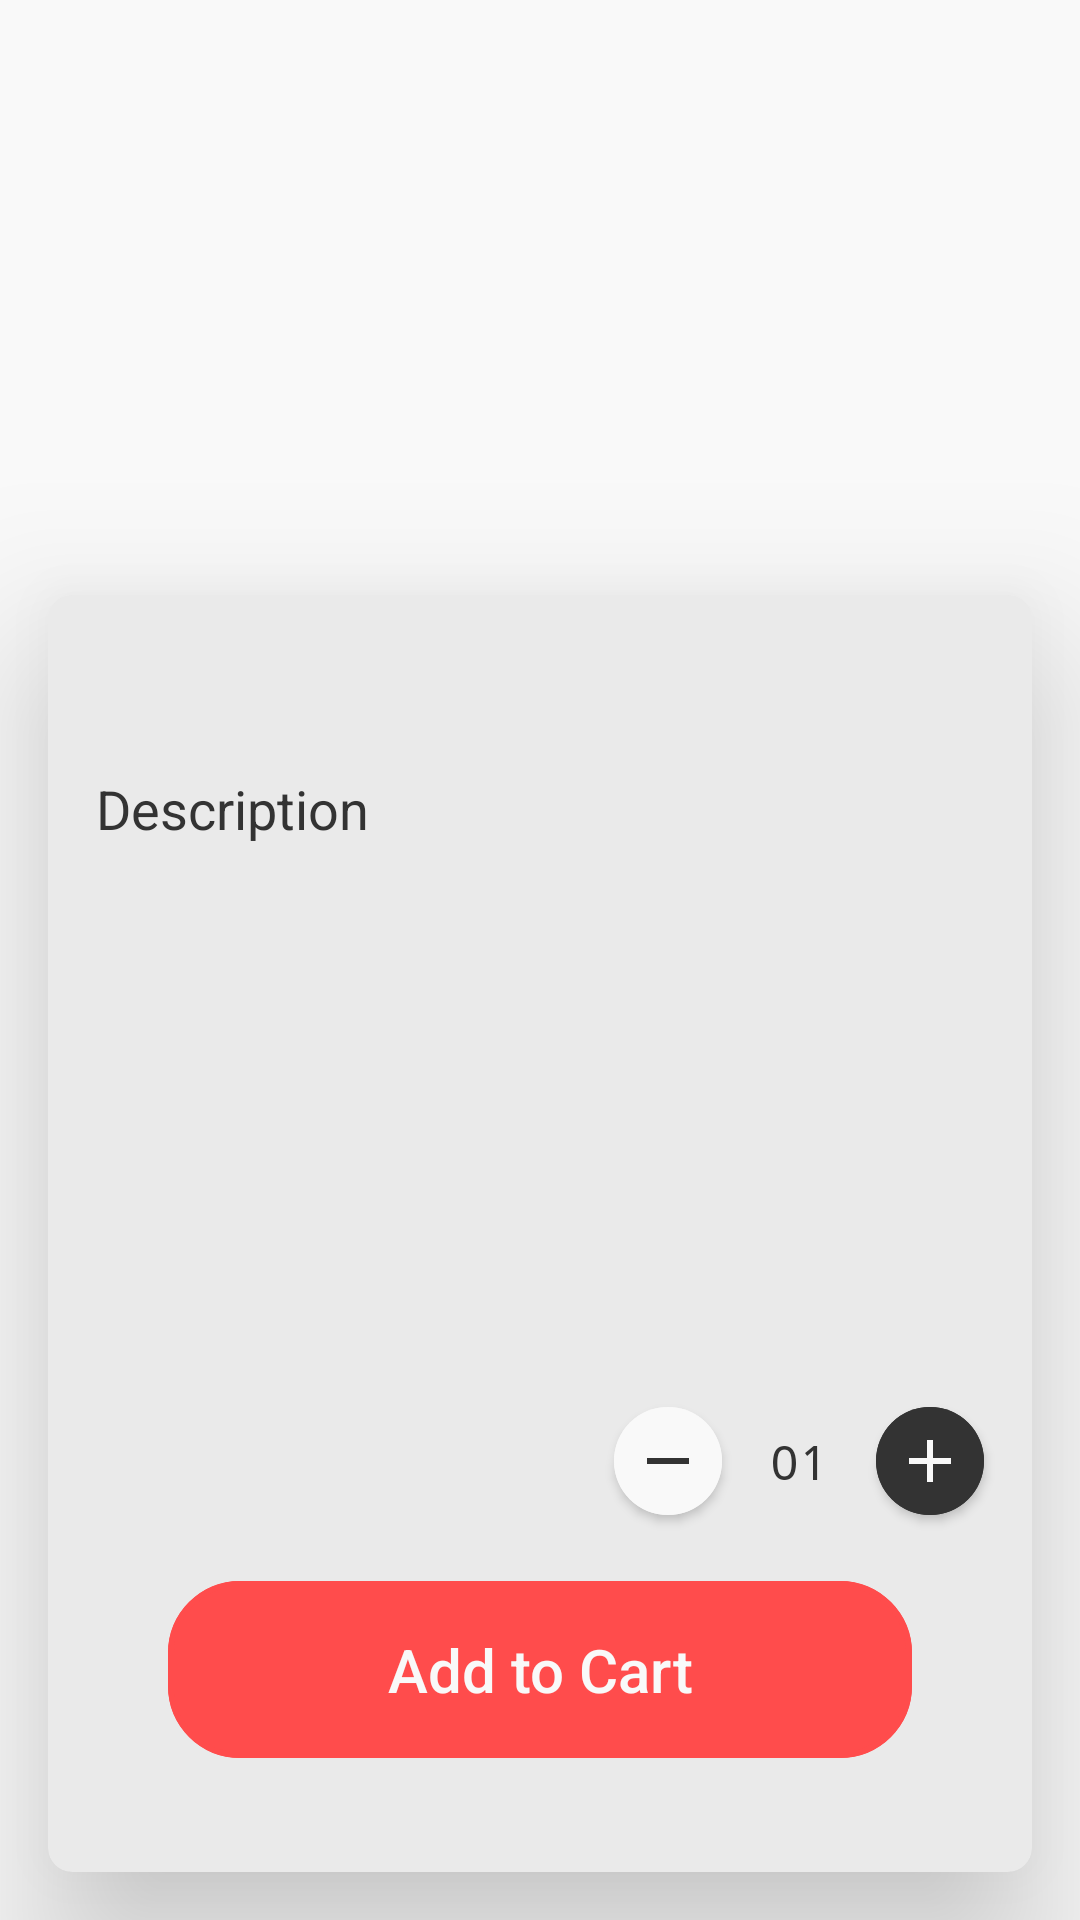

Where to tap for icons on this 1080x1920 app screen, as point (x, y):
remove: point (668, 1461)
